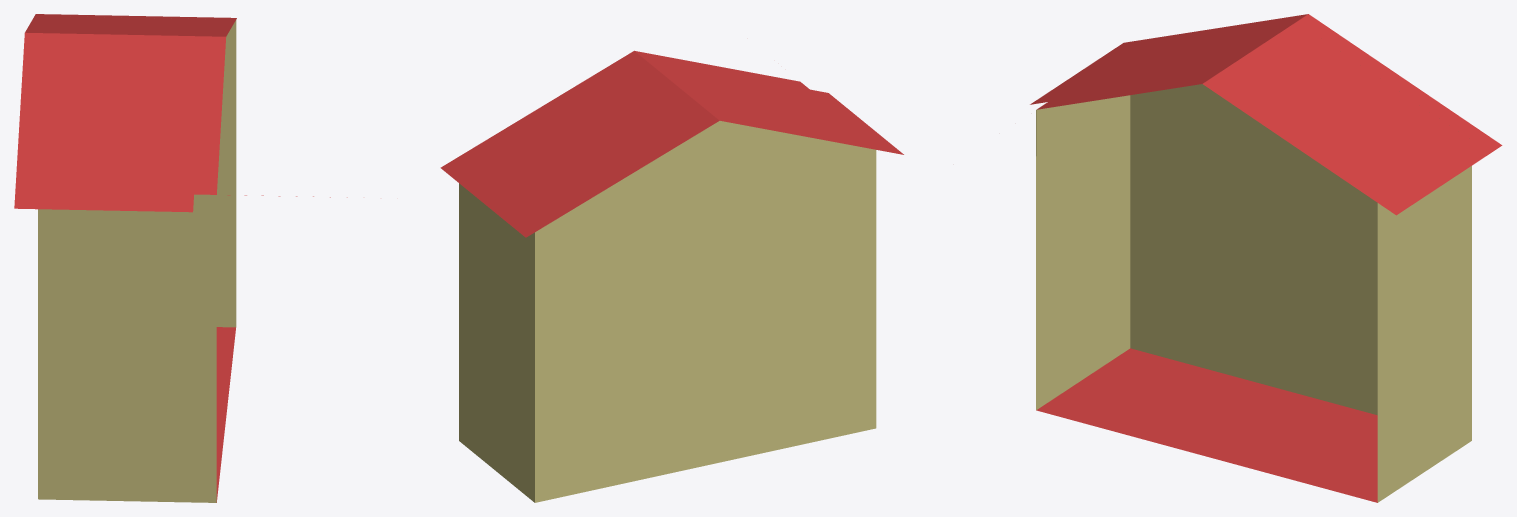
3 views of the same model, side by side, from view 1: azimuth 30°, elevation 25°; view 2: azimuth 150°, elevation 25°; view 3: azimuth 270°, elevation 25° (orthographic). The views are drawn at different scales.
Size of the model in its own units: 9.21 by 12.82 by 9.24.
